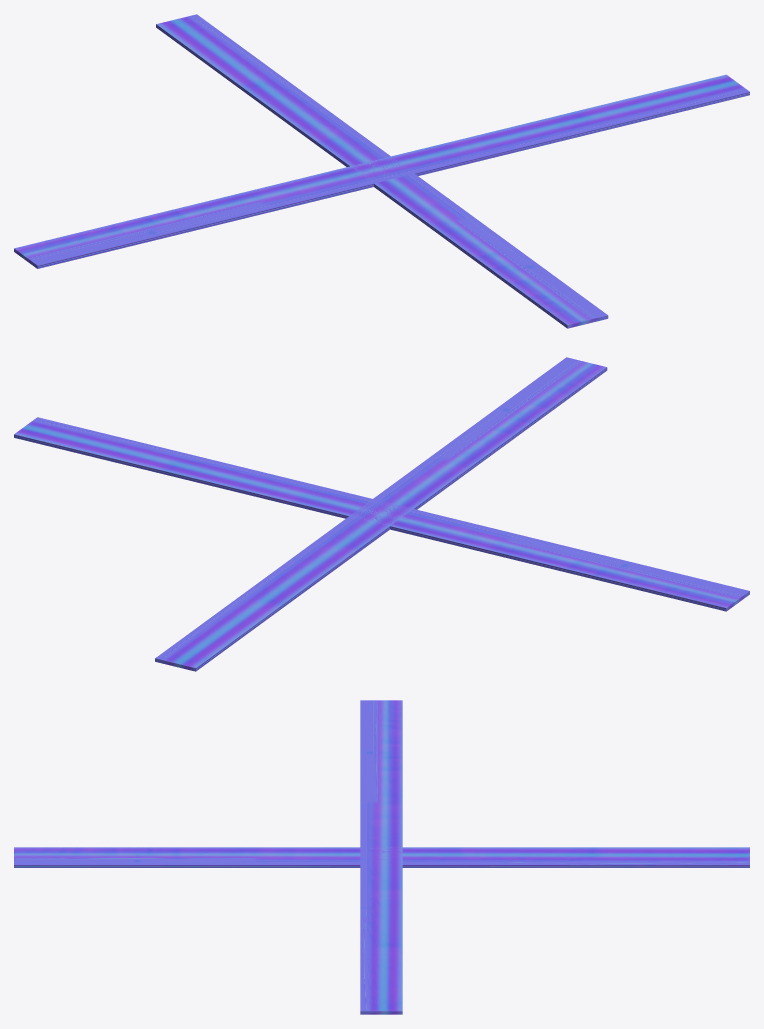
Rendered from my_Prop.obj.
3 renders of one model, top to bottom at view 1: azimuth 30°, elevation 25°; view 2: azimuth 150°, elevation 25°; view 3: azimuth 270°, elevation 25°, orthographic. The views are drawn at different scales.
Visible parts, largest first — view 1: Box001, Box002; view 2: Box001, Box002; view 3: Box002, Box001.
Boxes of the visible parts, x1,y1,x2,y2 form: Box001: (14,74,749,268); Box002: (156,14,608,328); Box001: (14,417,749,611); Box002: (155,357,607,671); Box002: (14,847,749,867); Box001: (360,700,402,1014).
Size of the model in its own units: 341 by 1.58 by 341.
1 material, 1 textured.
